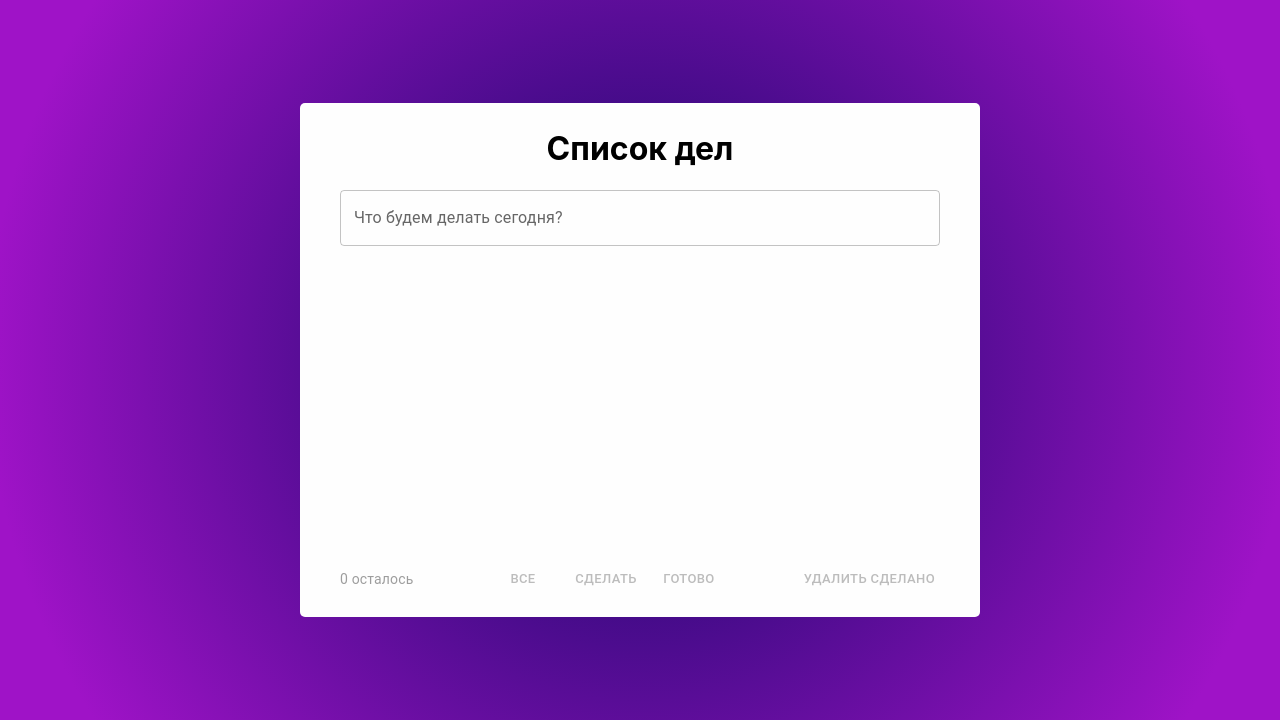
it: App › should add todo task and change button states
This screenshot has width=1280, height=720.
Type "Бегать" into the field labelled "Что будем делать сегодня?" at (640, 218), box [340,190,940,246]
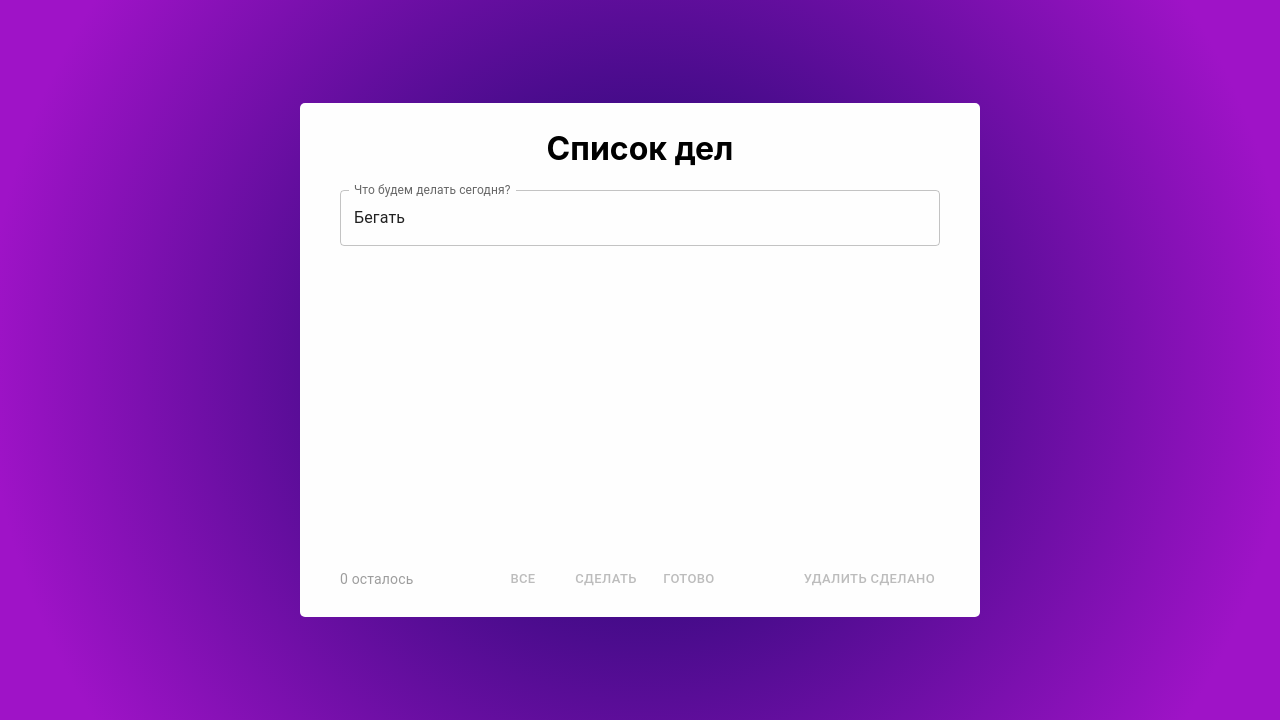
Submit the form with test id "todo-form", box [340,190,940,246]
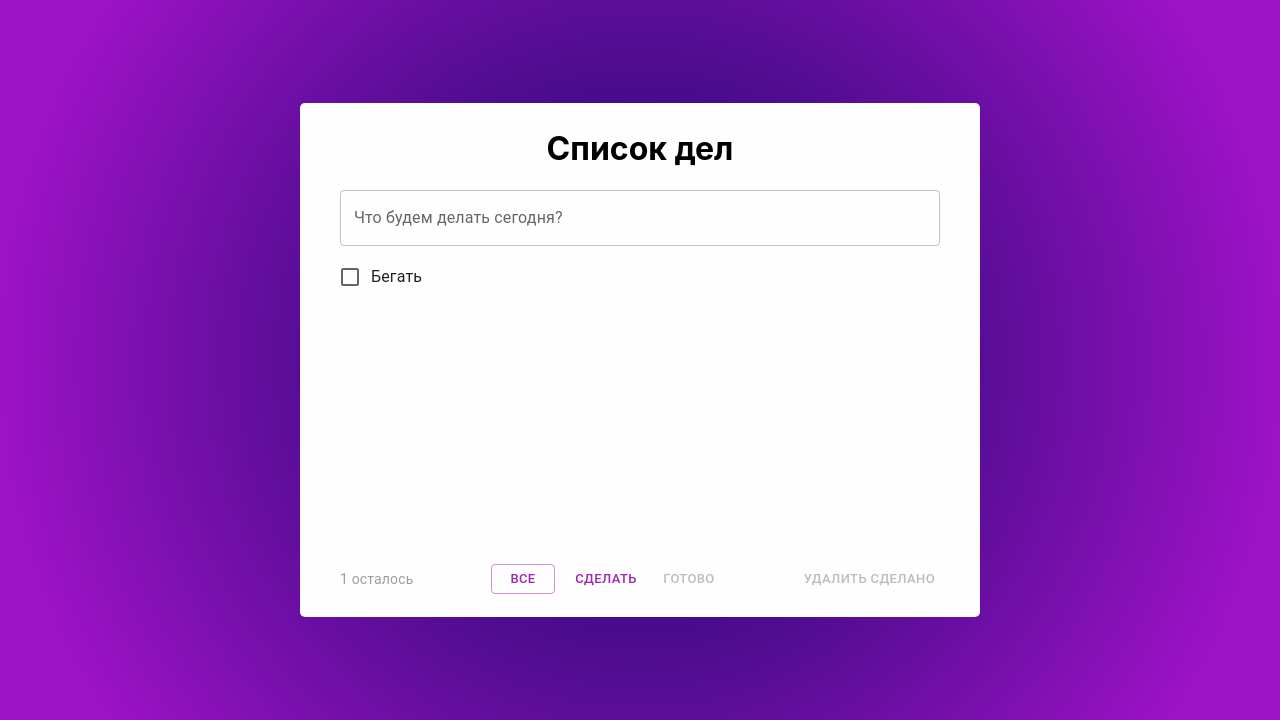
Check: the field labelled "Что будем делать сегодня?" is empty, box [340,190,940,246]
Check: the checkbox with test id "todo-item" is shown, box [338,265,422,289]
Check: the text "Бегать" is shown, box [371,265,422,289]
